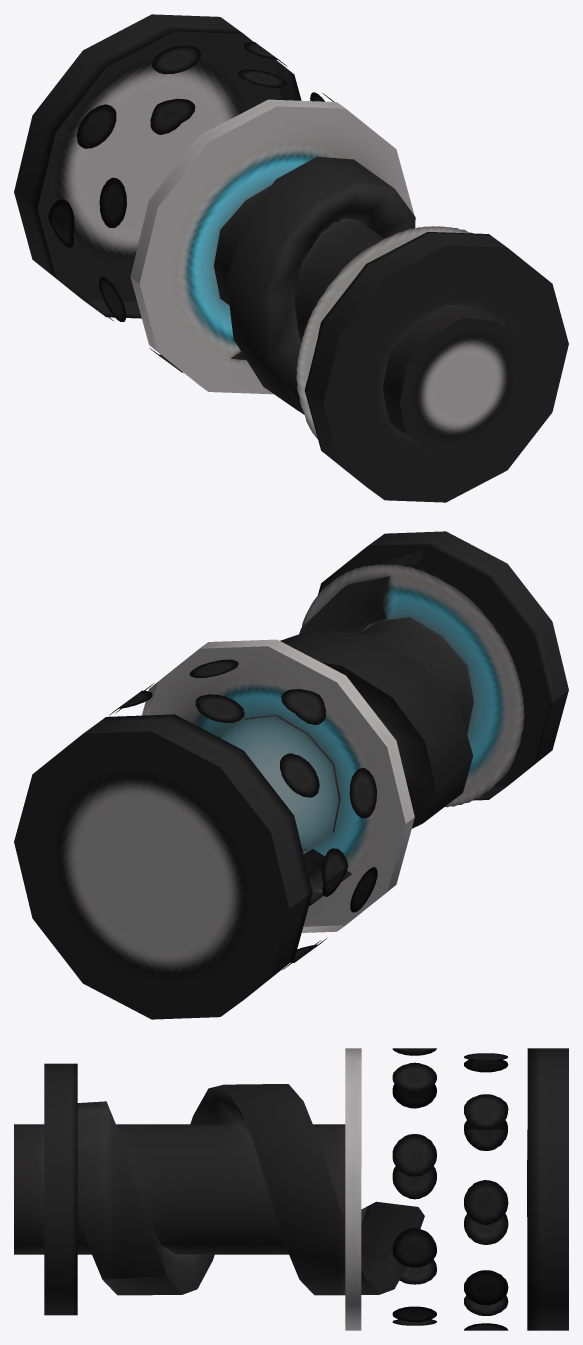
Rendered from obj_interactive_suspensionsport_04_off.fbx.
3 renders of one model, top to bottom at view 1: azimuth 30°, elevation 25°; view 2: azimuth 150°, elevation 25°; view 3: azimuth 270°, elevation 25°, orthographic. The views are drawn at different scales.
Visible parts, largest first — view 1: obj_interactive_suspensionsport_04_off; view 2: obj_interactive_suspensionsport_04_off; view 3: obj_interactive_suspensionsport_04_off.
Part boxes in pixels (bbox=[...]): obj_interactive_suspensionsport_04_off: bbox=[14, 14, 568, 502]; obj_interactive_suspensionsport_04_off: bbox=[14, 531, 568, 1019]; obj_interactive_suspensionsport_04_off: bbox=[14, 1048, 568, 1330].
Size of the model in its own units: 1.09 by 1.09 by 2.14.
